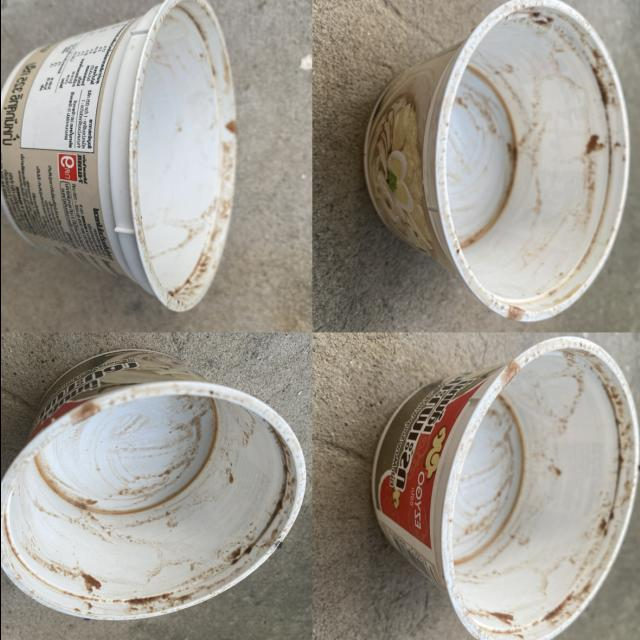plastik: (363, 0, 629, 322), (0, 349, 305, 620), (371, 337, 638, 640), (0, 0, 235, 311)
